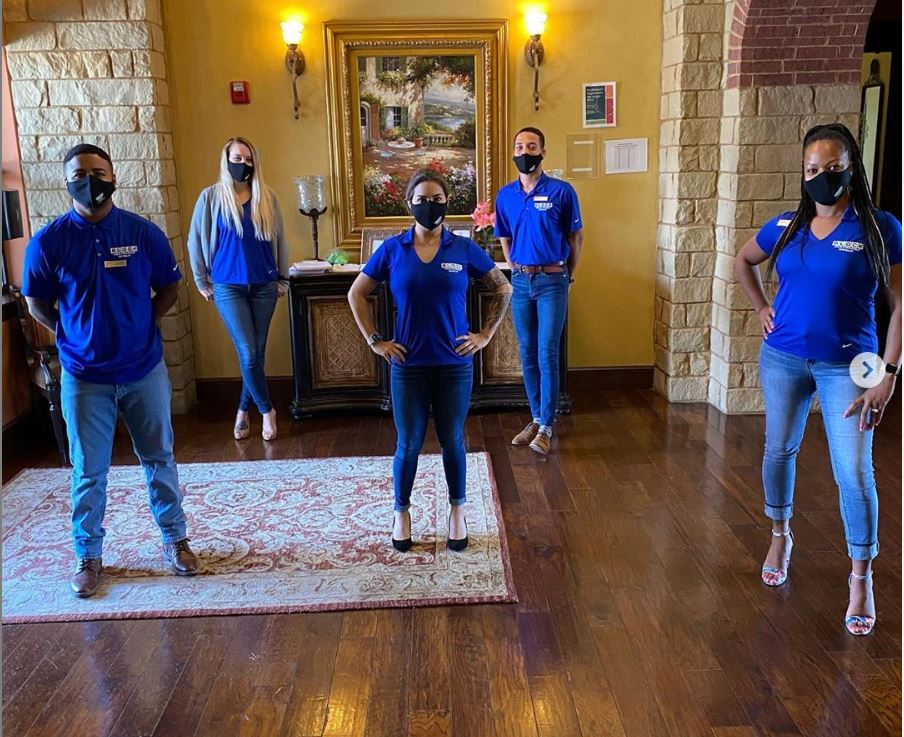Good: (487, 123, 904, 640), (184, 137, 513, 548), (21, 136, 291, 601), (341, 124, 581, 554)
